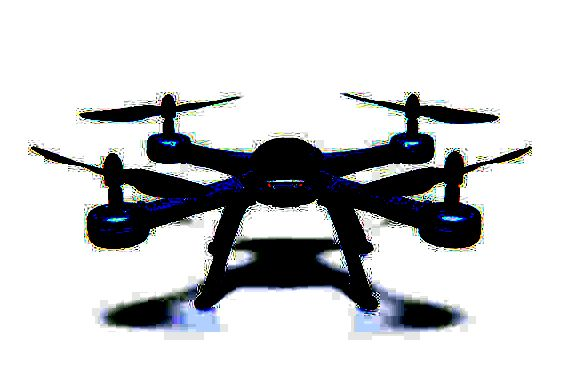Drone: (28, 90, 535, 338)
